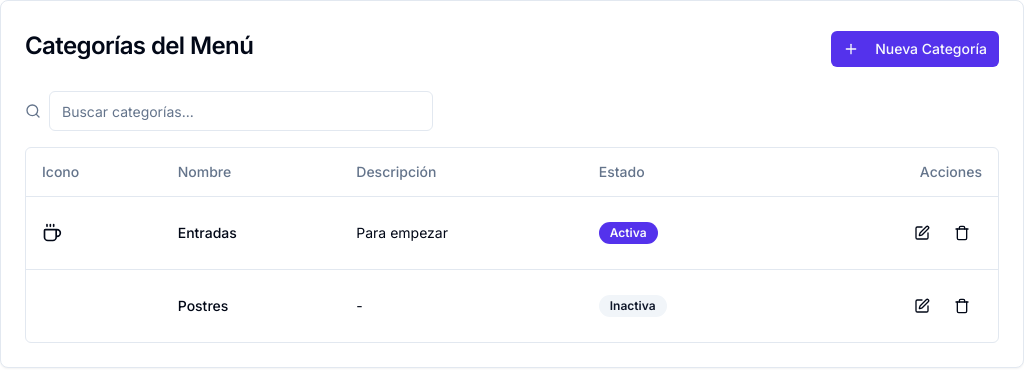
Test case: CategoryList — cached list, invalidated by its own mutations › still filters by the search box
Expected: the text "Entradas" is shown, [162,196,340,269]
Type "post" into the field with placeholder "Buscar categorías...".
click(241, 111); type("post")  # box [49,91,433,131]
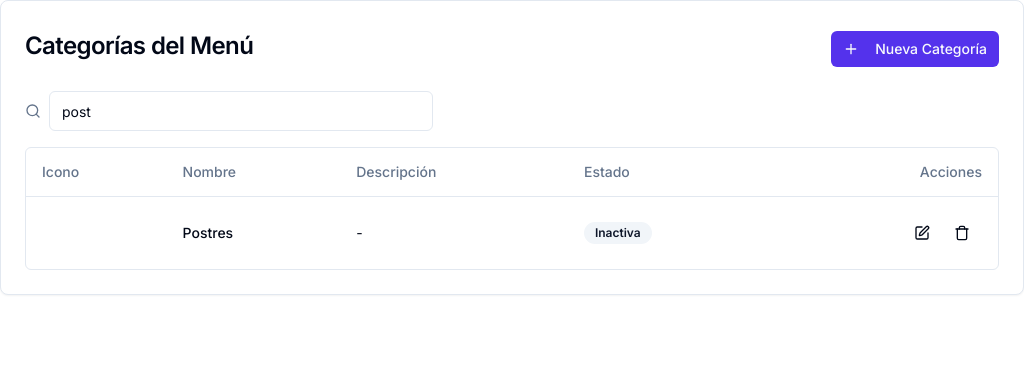
Expected: the text "Postres" is shown, [167,196,340,268]
Expected: the text "Entradas" is gone
